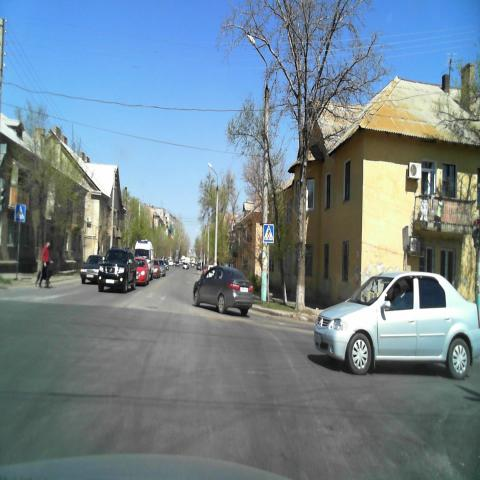5_19_1: (14, 204, 26, 222), (263, 224, 274, 243), (402, 225, 408, 249)
